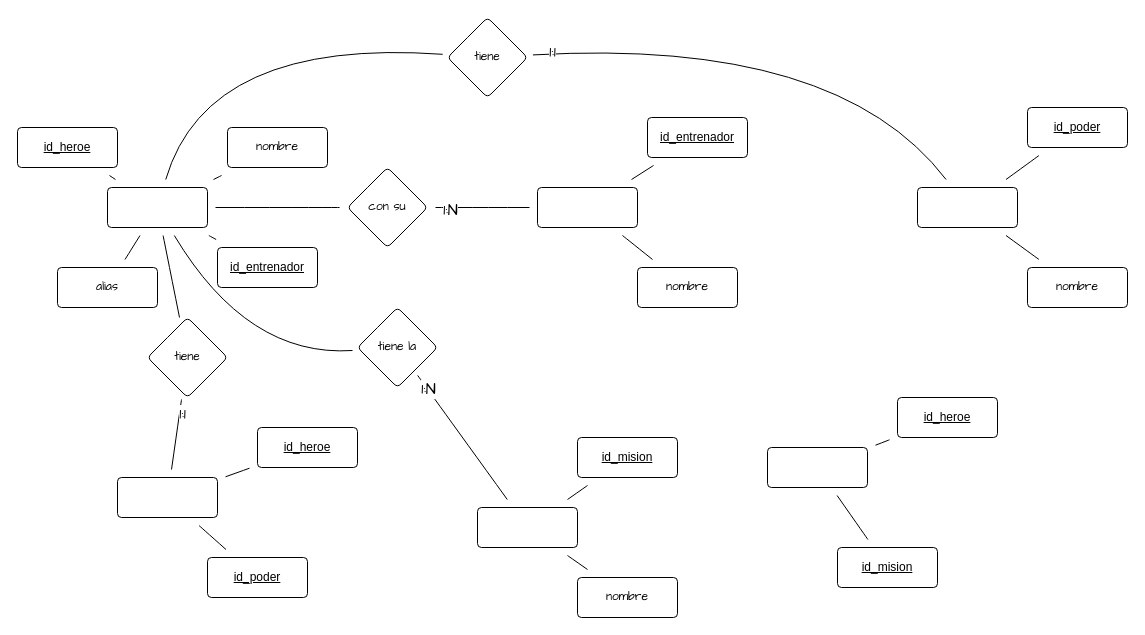
Image size: 1145x635. Some labels were removed from this diagram. Here are the shapes that lost their labels. From the top down, the centre of each, then its label:
(x=157, y=207): heroe
(x=587, y=207): entrenador
(x=967, y=207): poder
(x=817, y=467): heroe_mision
(x=167, y=497): heroe_poder
(x=527, y=527): mision
